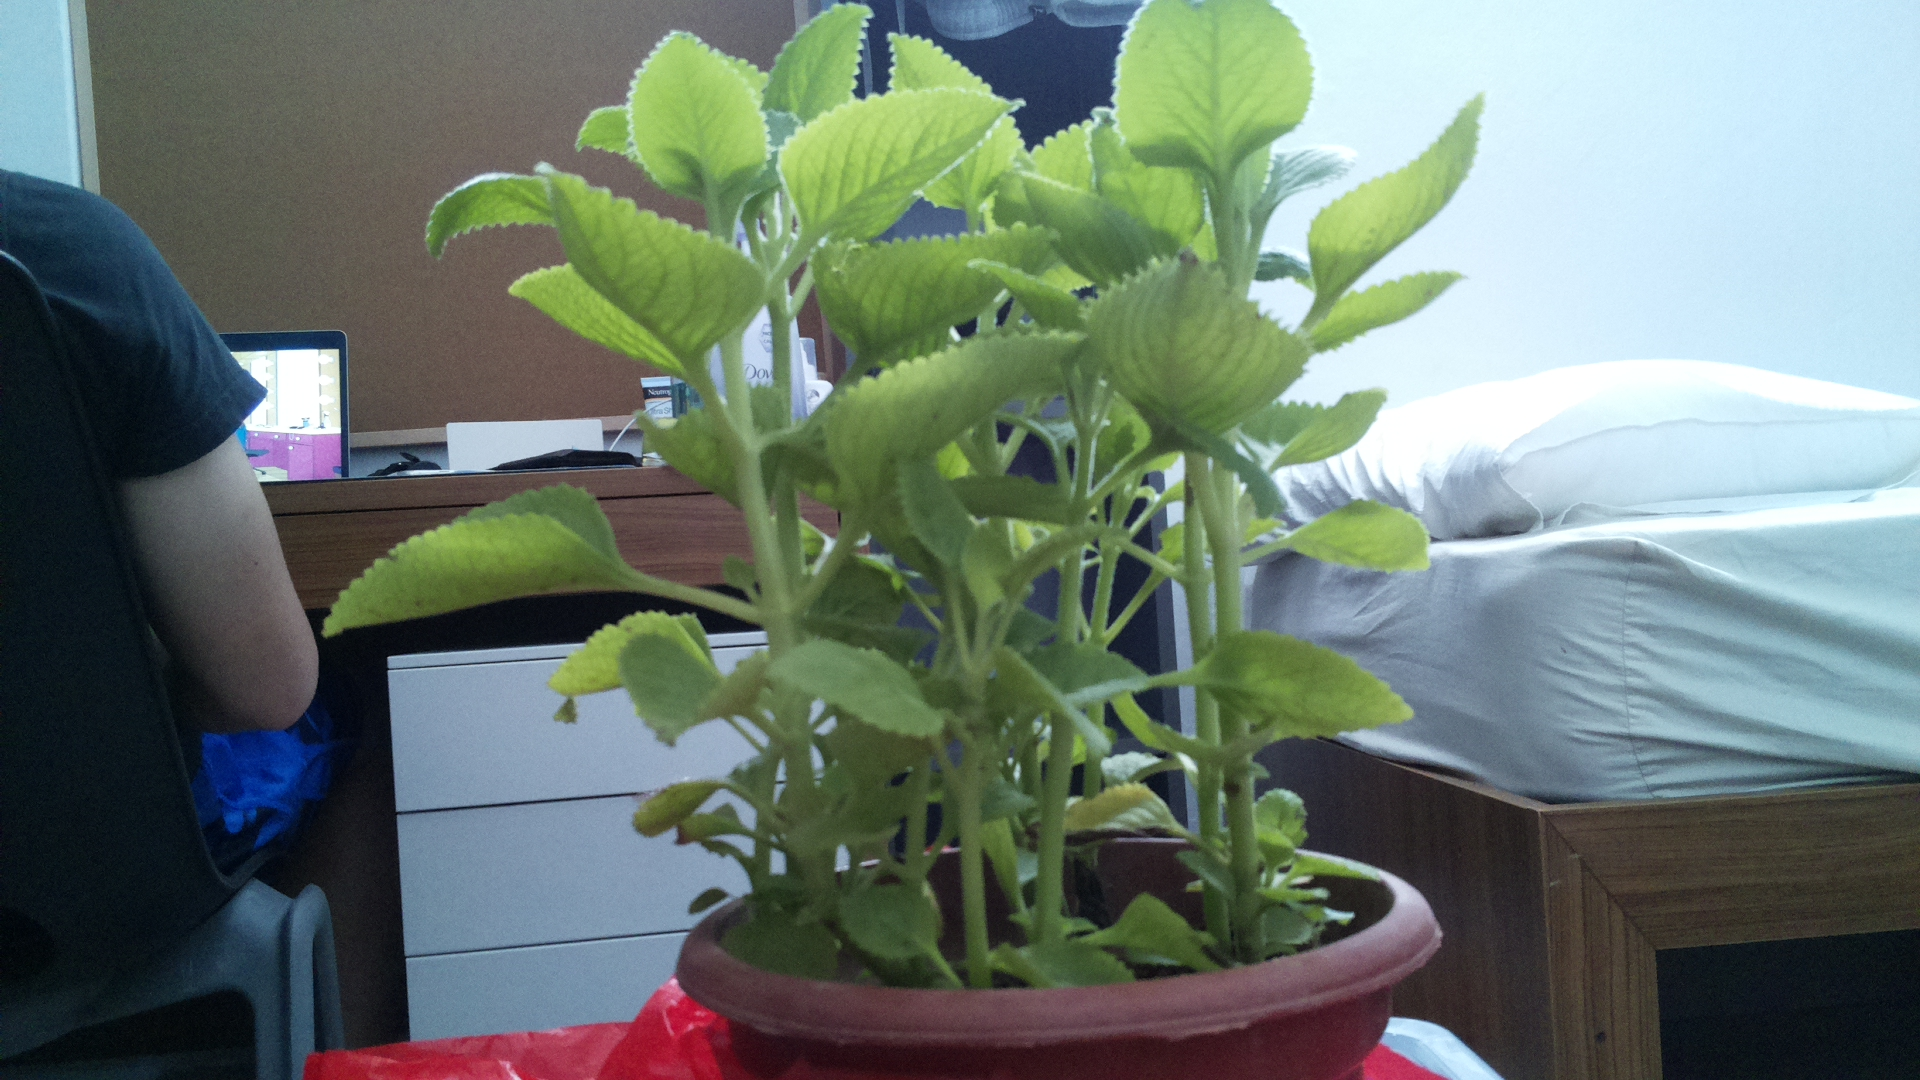leaf: (316, 459, 628, 657), (824, 318, 1089, 489), (789, 73, 1036, 253), (1087, 255, 1316, 443), (541, 164, 756, 361), (1311, 94, 1499, 307), (1106, 3, 1316, 190), (832, 215, 1063, 363), (625, 32, 781, 214), (1176, 636, 1425, 742), (767, 640, 956, 757), (407, 158, 568, 255), (1276, 501, 1455, 587)
